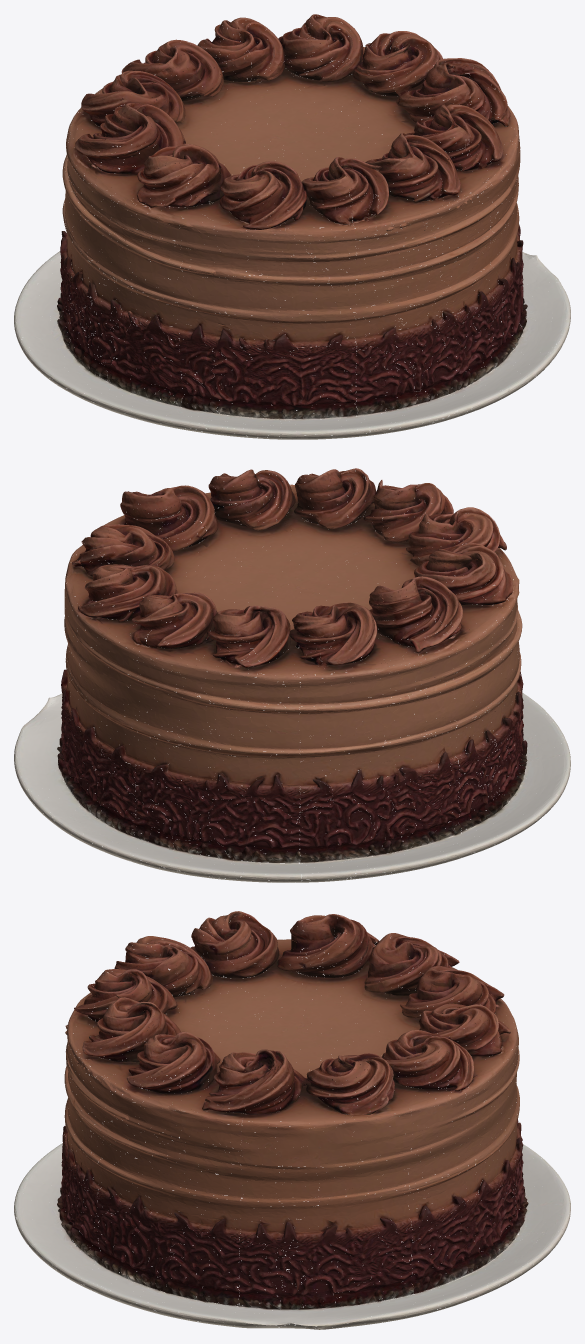
File: chocolate-cake.glb
The picture shows the model from 3 angles, top to bottom: view 1: azimuth 30°, elevation 25°; view 2: azimuth 150°, elevation 25°; view 3: azimuth 270°, elevation 25°; orthographic projection.
Visible parts, largest first — view 1: world; view 2: world; view 3: world.
Part boxes in pixels (x1,y1,x2,y2): world: (14, 14, 570, 439); world: (14, 468, 570, 882); world: (14, 911, 570, 1329).
Bounding box in the file's own units: 0.2001 × 0.0958 × 0.2.
1 material, 1 textured.
